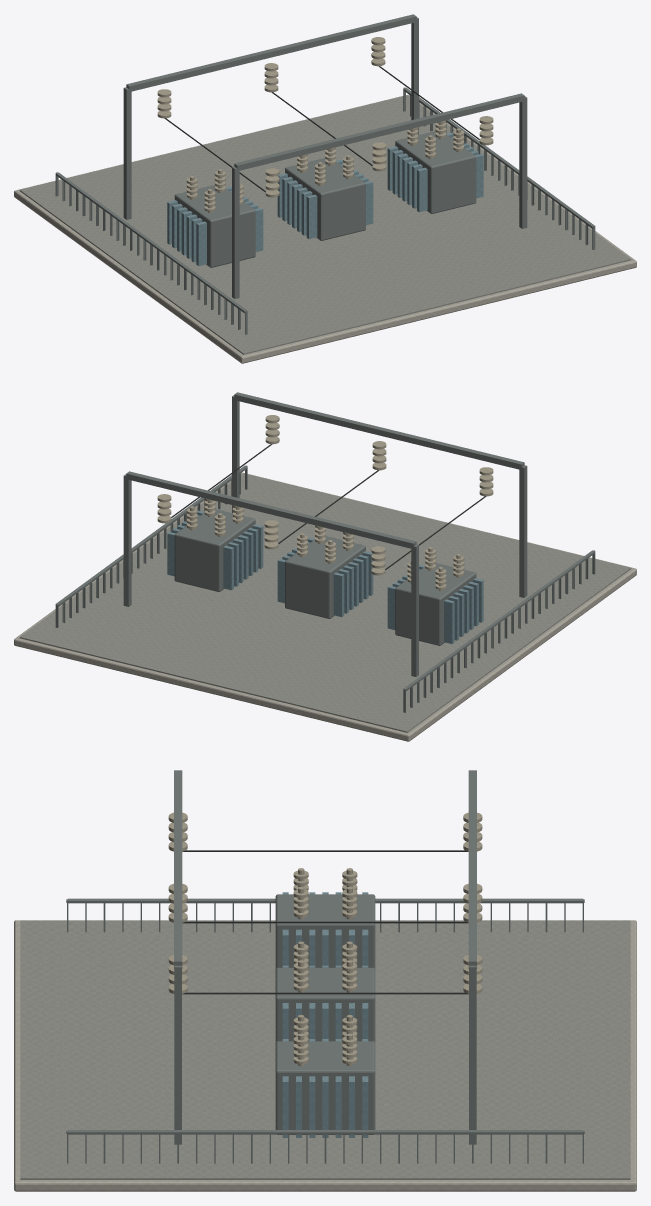
Rendered from EXP_POWER_SUBSTATION.glb.
3 views of the same model, one above another, from view 1: azimuth 30°, elevation 25°; view 2: azimuth 150°, elevation 25°; view 3: azimuth 270°, elevation 25° (orthographic). The views are drawn at different scales.
Parts seen in each view (by area): view 1: EXP_POWER_SUBSTATION_Visual; view 2: EXP_POWER_SUBSTATION_Visual; view 3: EXP_POWER_SUBSTATION_Visual.
Boxes of the visible parts, x1,y1,x2,y2 form: EXP_POWER_SUBSTATION_Visual: [14, 14, 636, 363]; EXP_POWER_SUBSTATION_Visual: [14, 392, 636, 741]; EXP_POWER_SUBSTATION_Visual: [14, 770, 636, 1191].
Size of what is drawn, in the model's own units: 5.92 by 2.04 by 5.92.
Materials: 6 (4 with a texture image).
